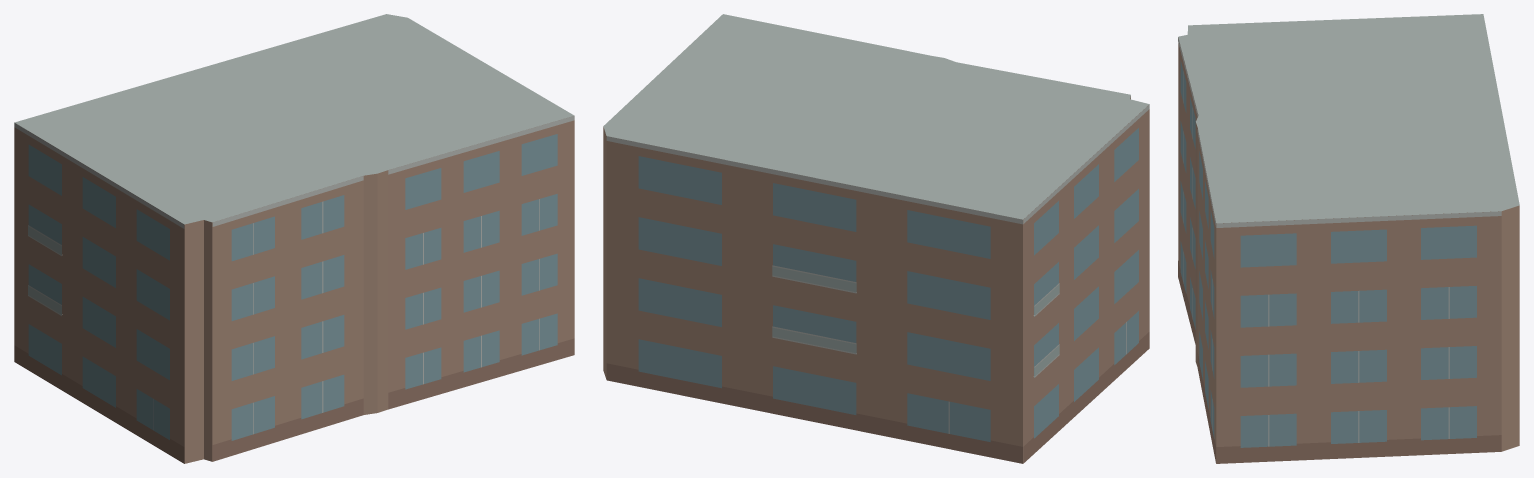
File: survey-upis-32777997.glb
3 views of the same model, side by side, from view 1: azimuth 30°, elevation 25°; view 2: azimuth 150°, elevation 25°; view 3: azimuth 270°, elevation 25° (orthographic). The views are drawn at different scales.
Parts seen in each view (by area): view 1: survey-upis-32777997.tmp; view 2: survey-upis-32777997.tmp; view 3: survey-upis-32777997.tmp.
Part boxes in pixels (box(x1,y1,x2,y2)): survey-upis-32777997.tmp: box(14, 14, 574, 463); survey-upis-32777997.tmp: box(603, 14, 1149, 463); survey-upis-32777997.tmp: box(1178, 14, 1519, 463).
Size of the model in its own units: 23.35 by 12.5 by 16.11.
